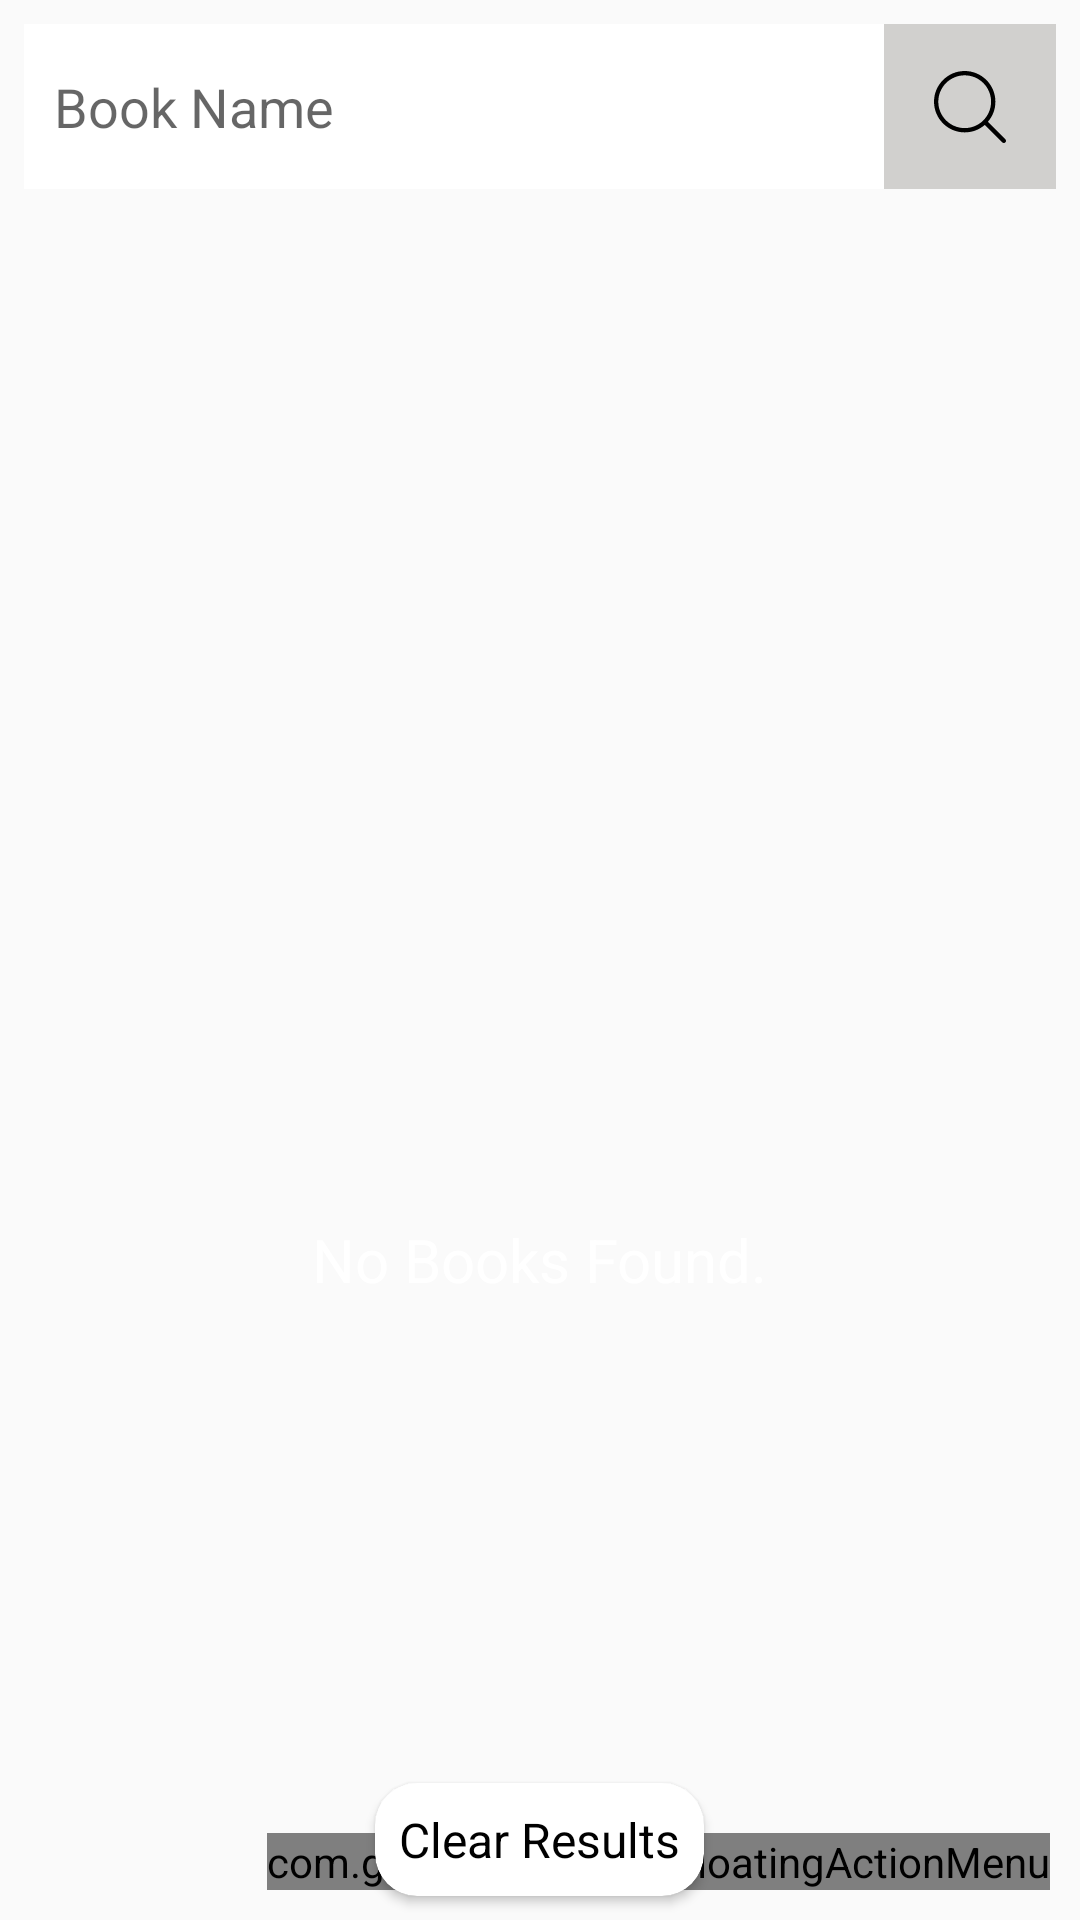

Icons on this 1080px x 1920px Android screen, each with the point to tap as [x,y]:
search: [970,106]
